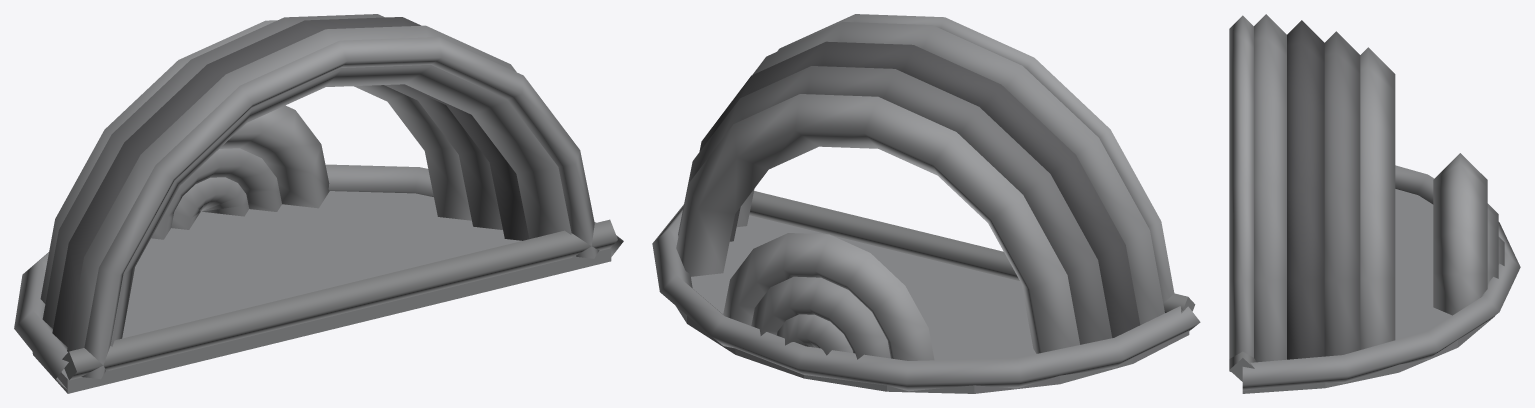
3 renders of one model, left to right at view 1: azimuth 30°, elevation 25°; view 2: azimuth 150°, elevation 25°; view 3: azimuth 270°, elevation 25°, orthographic. The views are drawn at different scales.
Size of the model in its own units: 0.452 by 0.219 by 0.237.
